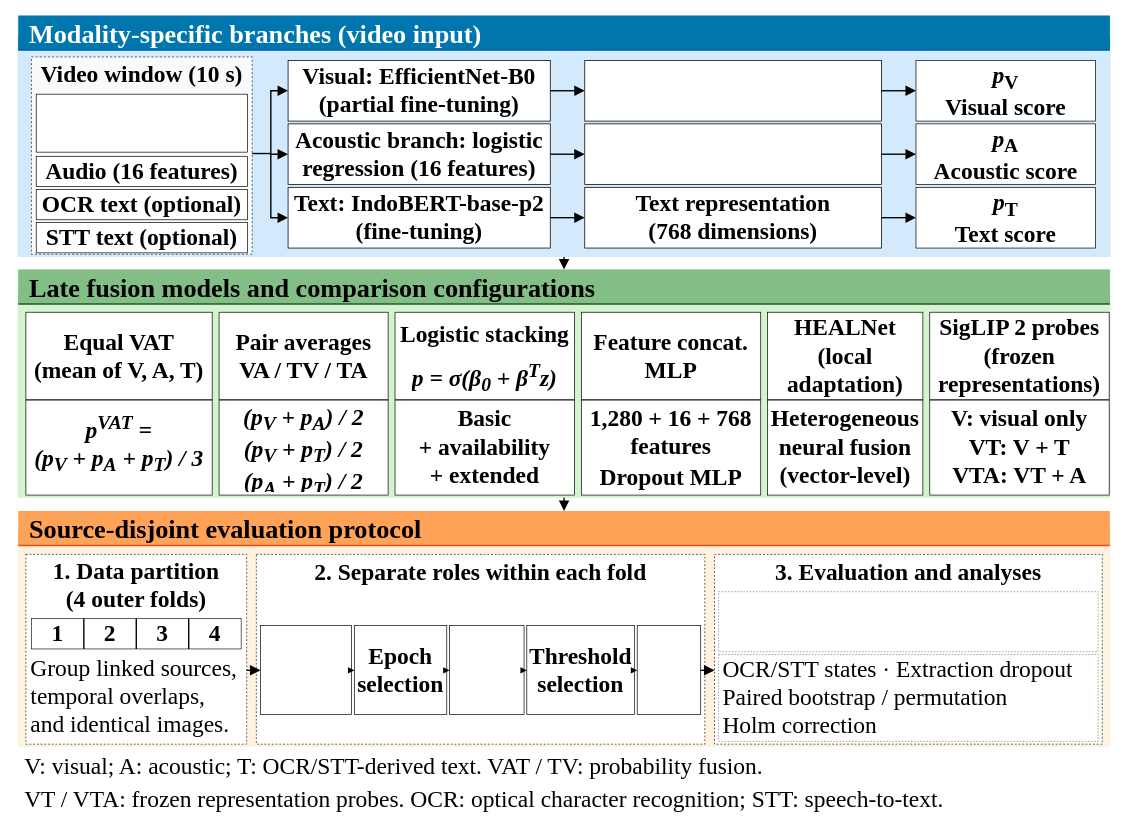
This 1127x831 diagram has some shape labels left out. Each missing label, with the centre of its shape:
Acoustic representation (16 dimensions): pixel 733 154
Encoder fitting: pixel 306 669
Macro F1 · Accuracy · ROC-AUC Average precision · Brier score · ECE: pixel 908 621
Meta- model fitting: pixel 486 669
Outer test: pixel 669 669
Visual keyframe (image): pixel 141 122
Visual representation (1,280 dimensions): pixel 733 90
